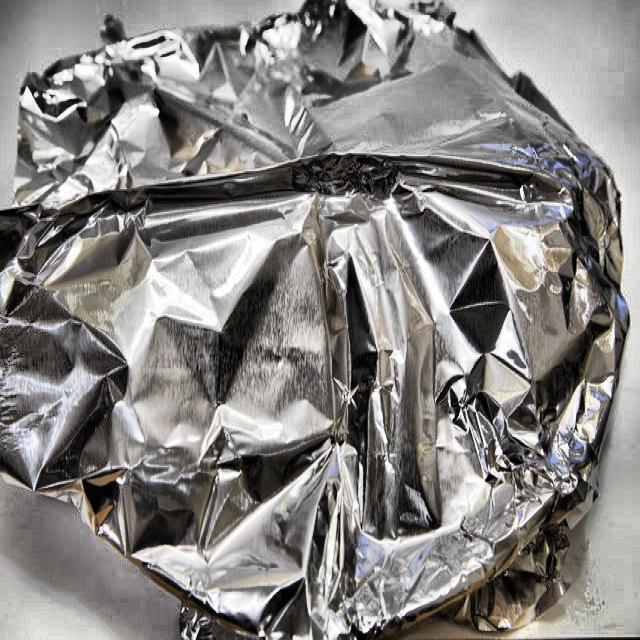Foil: (0, 0, 636, 640)
